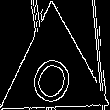O_NE: (26, 39, 81, 105)
